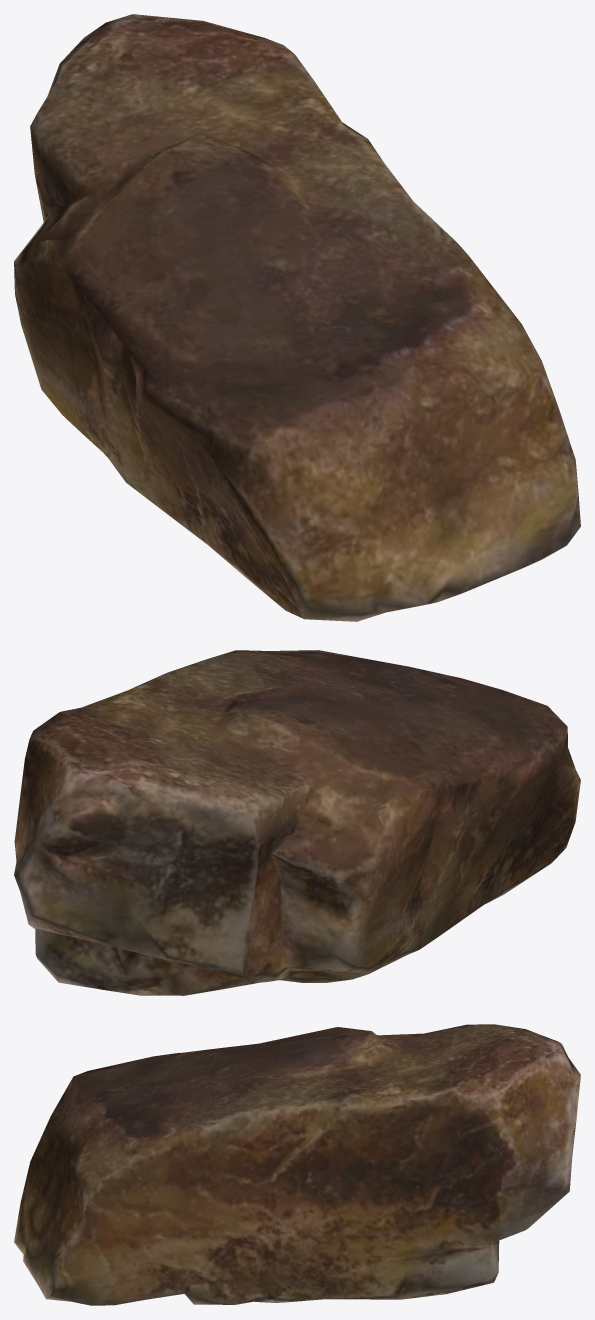
File: rock_07.glb
3 renders of one model, top to bottom at view 1: azimuth 30°, elevation 25°; view 2: azimuth 150°, elevation 25°; view 3: azimuth 270°, elevation 25°, orthographic. The views are drawn at different scales.
Visible parts, largest first — view 1: a_lod0; view 2: a_lod0; view 3: a_lod0.
Boxes of the visible parts, box(x1,y1,x2,y2) form: a_lod0: box(14, 14, 580, 621); a_lod0: box(14, 650, 580, 995); a_lod0: box(14, 1024, 580, 1305).
Size of what is drawn, in the model's own units: 0.1671 by 0.1405 by 0.3177.
Materials: 1 (1 with a texture image).
